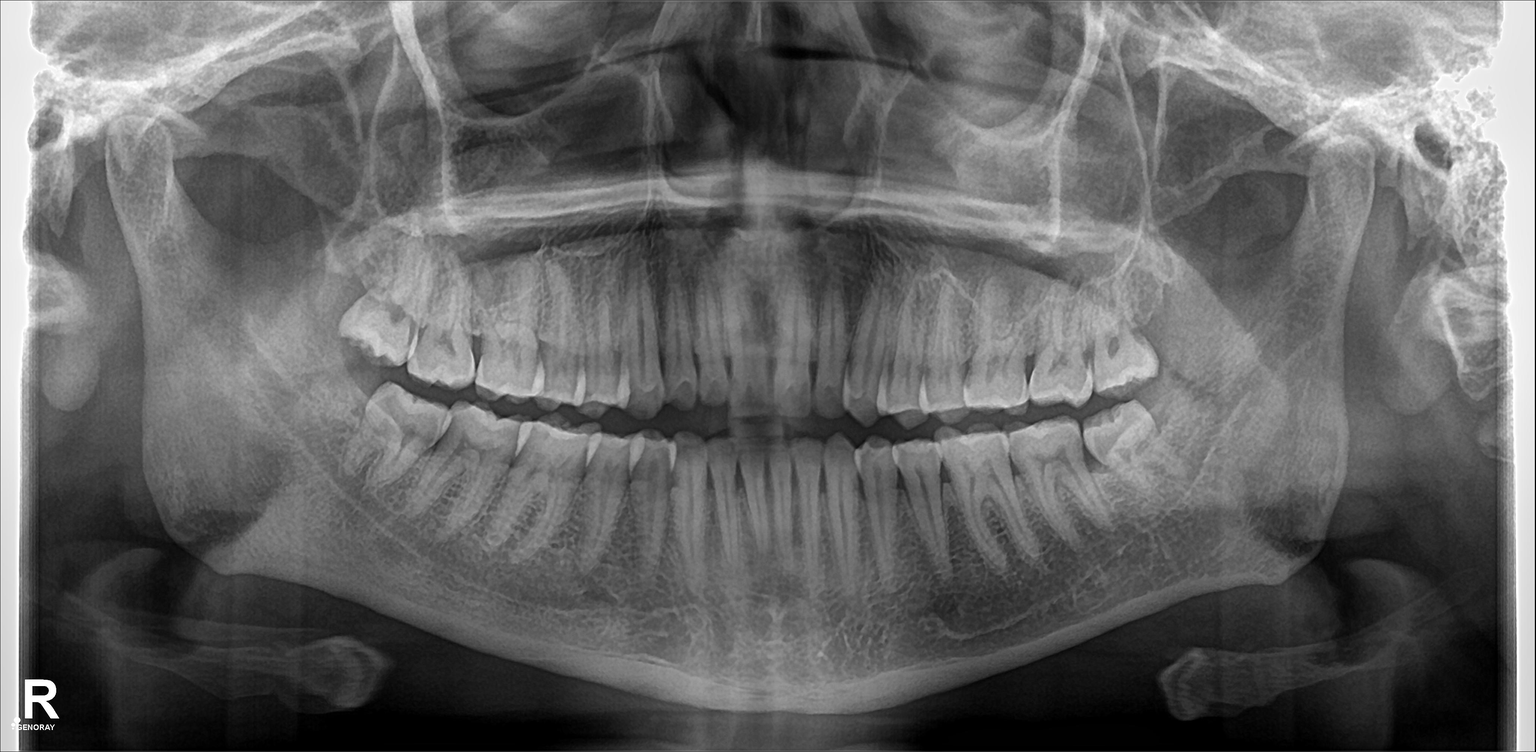Dental Caries: (380, 404, 438, 454)
Impacted Third Molar: (359, 382, 442, 486), (1089, 411, 1177, 495)
